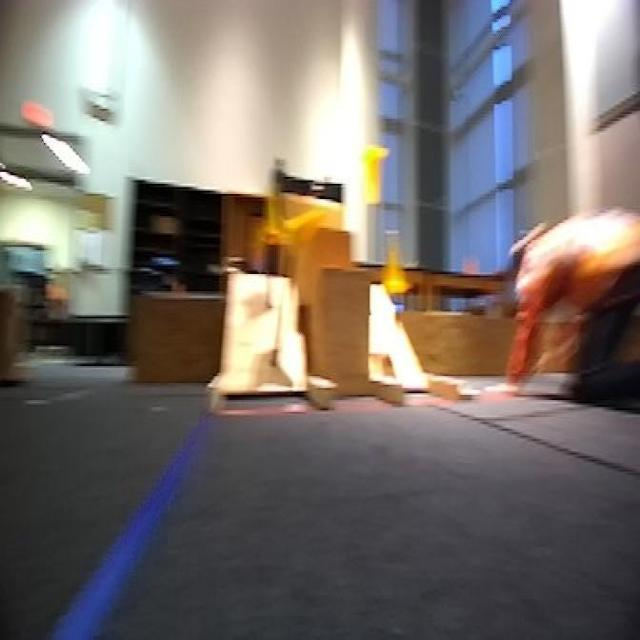frc_cone: (373, 218, 426, 313), (290, 199, 345, 261), (354, 138, 394, 214), (261, 185, 289, 247)
